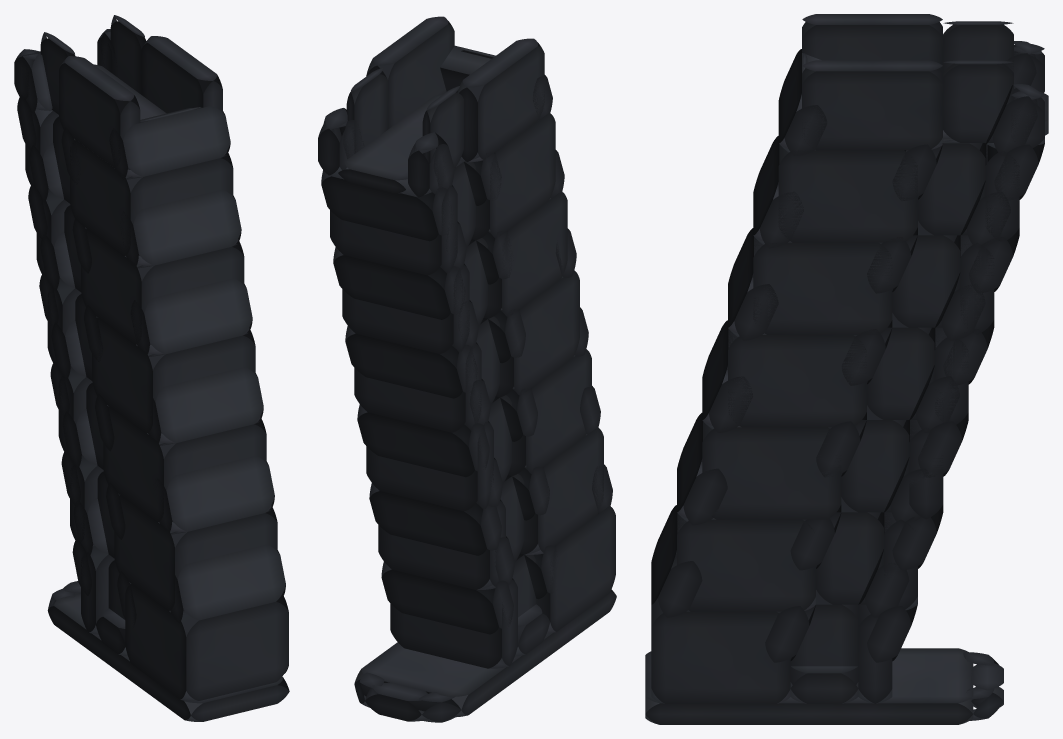
File: deagle_357_mag_standard.fbx
3 renders of one model, left to right at view 1: azimuth 30°, elevation 25°; view 2: azimuth 150°, elevation 25°; view 3: azimuth 270°, elevation 25°, orthographic. The views are drawn at different scales.
Parts seen in each view (by area): view 1: cube_21, cube_27, cube_25, cube_26, cube_24, cube_23, cube_35, cube_37, cube_31, cube_29, cube_33, cube_39 (+38 smaller); view 2: cube, cube_28, cube_27, cube_26, cube_21, cube_25, cube_23, cube_24, cube_9, cube_10, cube_47, cube_5 (+39 smaller); view 3: cube_27, cube_25, cube_21, cube_47, cube, cube_26, cube_24, cube_23, cube_28, cube_48, cube_44, cube_42 (+40 smaller).
Boxes of the visible parts, x1=… form: cube_21: x1=125, y1=583, x2=288, y2=701; cube_27: x1=70, y1=140, x2=233, y2=255; cube_25: x1=92, y1=317, x2=255, y2=433; cube_26: x1=81, y1=228, x2=244, y2=344; cube_24: x1=103, y1=406, x2=266, y2=522; cube_23: x1=114, y1=495, x2=277, y2=612; cube_35: x1=130, y1=278, x2=252, y2=356; cube_37: x1=120, y1=189, x2=241, y2=268; cube_31: x1=155, y1=456, x2=274, y2=534; cube_29: x1=170, y1=544, x2=285, y2=623; cube_33: x1=146, y1=367, x2=263, y2=445; cube_39: x1=109, y1=106, x2=230, y2=179; cube: x1=354, y1=589, x2=616, y2=717; cube_28: x1=457, y1=38, x2=544, y2=162; cube_27: x1=471, y1=113, x2=555, y2=239; cube_26: x1=482, y1=192, x2=567, y2=318; cube_21: x1=533, y1=506, x2=615, y2=633; cube_25: x1=494, y1=270, x2=579, y2=397; cube_23: x1=518, y1=427, x2=603, y2=554; cube_24: x1=506, y1=349, x2=591, y2=475; cube_9: x1=342, y1=254, x2=469, y2=353; cube_10: x1=330, y1=176, x2=457, y2=275; cube_47: x1=366, y1=16, x2=454, y2=129; cube_5: x1=381, y1=562, x2=513, y2=634; cube_27: x1=778, y1=94, x2=917, y2=242; cube_25: x1=728, y1=277, x2=866, y2=427; cube_21: x1=651, y1=554, x2=790, y2=703; cube_47: x1=802, y1=60, x2=942, y2=150; cube: x1=645, y1=648, x2=973, y2=724; cube_26: x1=753, y1=185, x2=892, y2=334; cube_24: x1=702, y1=370, x2=841, y2=519; cube_23: x1=677, y1=462, x2=815, y2=611; cube_28: x1=802, y1=14, x2=942, y2=72; cube_48: x1=943, y1=60, x2=1013, y2=142; cube_44: x1=841, y1=405, x2=909, y2=512; cube_42: x1=892, y1=221, x2=960, y2=327.
Bounding box in the file's own units: 13.83 × 73.59 × 41.12.
Materials: 1 (1 with a texture image).
